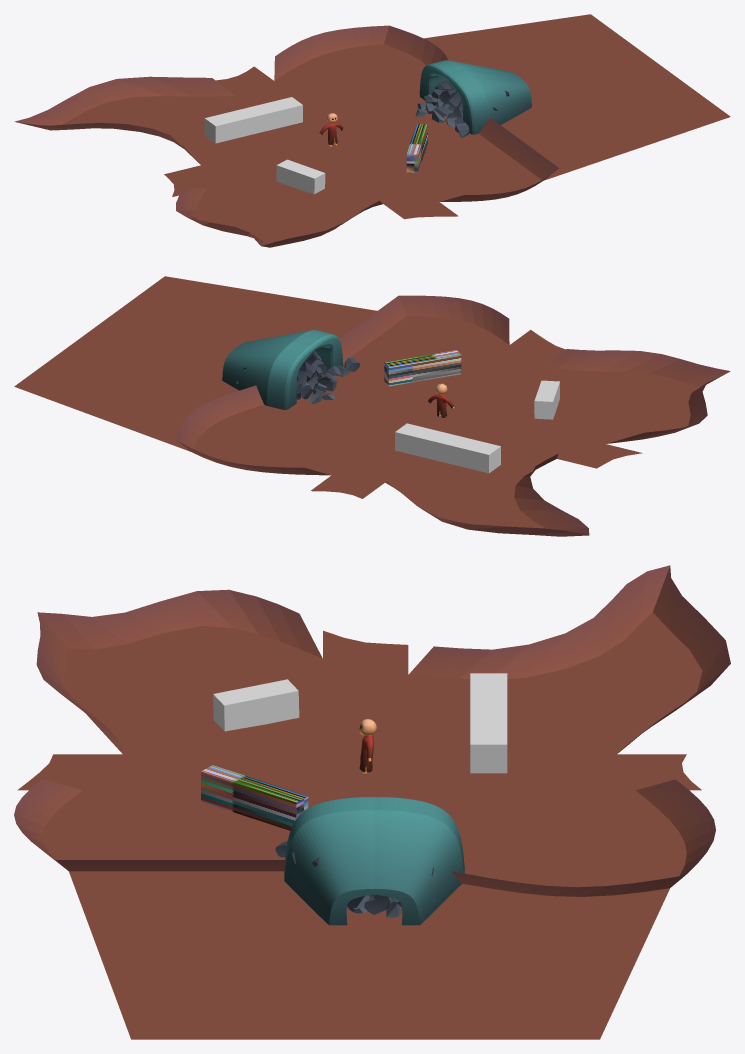
File: Zone2.glb
3 views of the same model, one above another, from view 1: azimuth 30°, elevation 25°; view 2: azimuth 150°, elevation 25°; view 3: azimuth 270°, elevation 25° (orthographic). The views are drawn at different scales.
Visible parts, largest first — view 1: Plane, Cube, Cube.002, Cube.001, Cube.003; view 2: Plane, Cube, Cube.002, Cube.003, Cube.001; view 3: Plane, Cube, Cube.003, Cube.002, Cube.001.
Boxes of the visible parts, x1,y1,x2,y2 form: Plane: [14, 14, 730, 247]; Cube: [419, 60, 531, 134]; Cube.002: [204, 97, 302, 143]; Cube.001: [276, 159, 325, 194]; Cube.003: [406, 124, 427, 172]; Plane: [14, 276, 730, 536]; Cube: [222, 330, 343, 409]; Cube.002: [395, 423, 500, 473]; Cube.003: [384, 350, 461, 386]; Cube.001: [534, 380, 559, 419]; Plane: [14, 565, 730, 1039]; Cube: [284, 797, 464, 925]; Cube.003: [201, 765, 308, 830]; Cube.002: [470, 673, 507, 773]; Cube.001: [213, 679, 299, 731].
Bounding box in the file's own units: 45.75 × 3.39 × 30.59.
2 materials, 2 textured.
